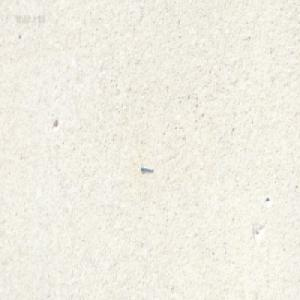Nail: (139, 162, 153, 171)
